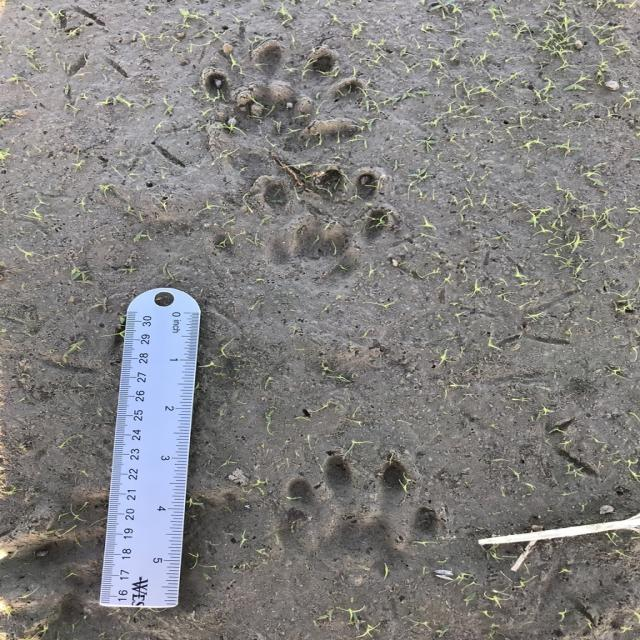mustelid: (286, 454, 445, 580), (203, 40, 368, 160), (252, 167, 398, 277)
